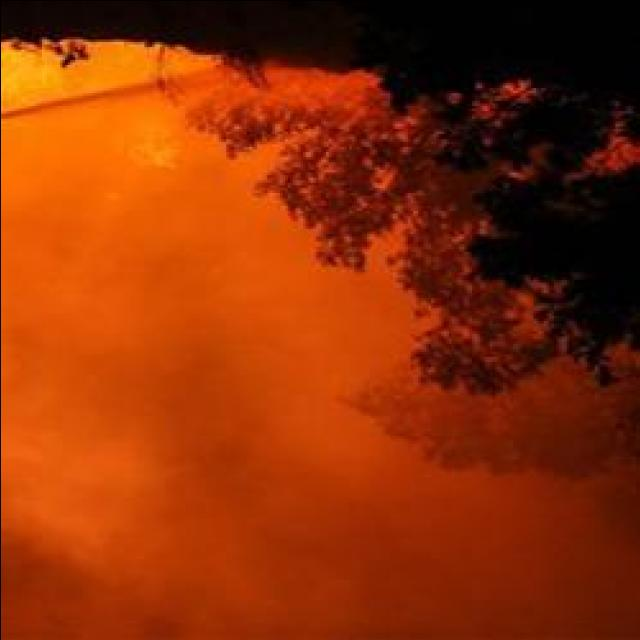smoke: (8, 368, 158, 560), (114, 533, 358, 638), (244, 313, 324, 467)
